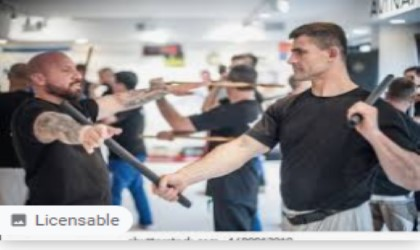baston_e: (74, 104, 154, 185), (350, 73, 386, 116), (197, 78, 277, 89), (176, 132, 237, 143), (79, 51, 94, 92)
baston_v: (177, 190, 195, 210), (346, 110, 361, 130), (134, 131, 153, 141), (58, 97, 70, 110), (385, 68, 395, 82), (86, 43, 96, 52), (278, 81, 287, 88)
